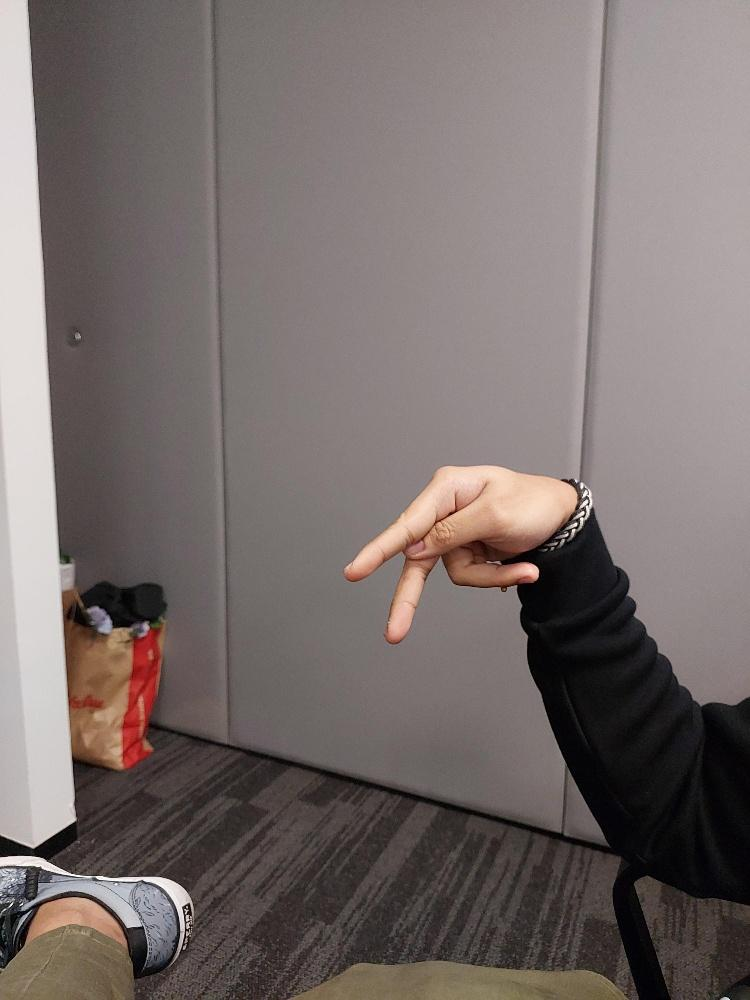p: (342, 463, 592, 647)
